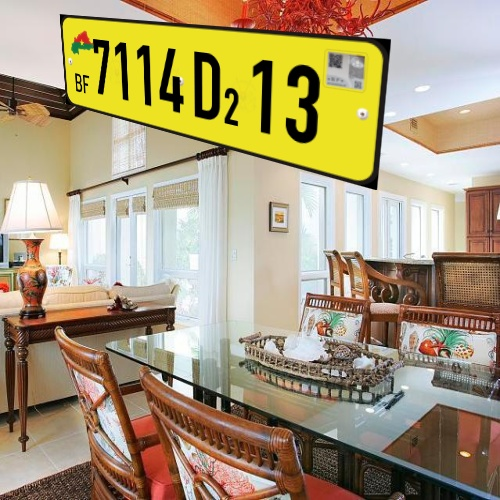plate: (51, 6, 397, 198)
